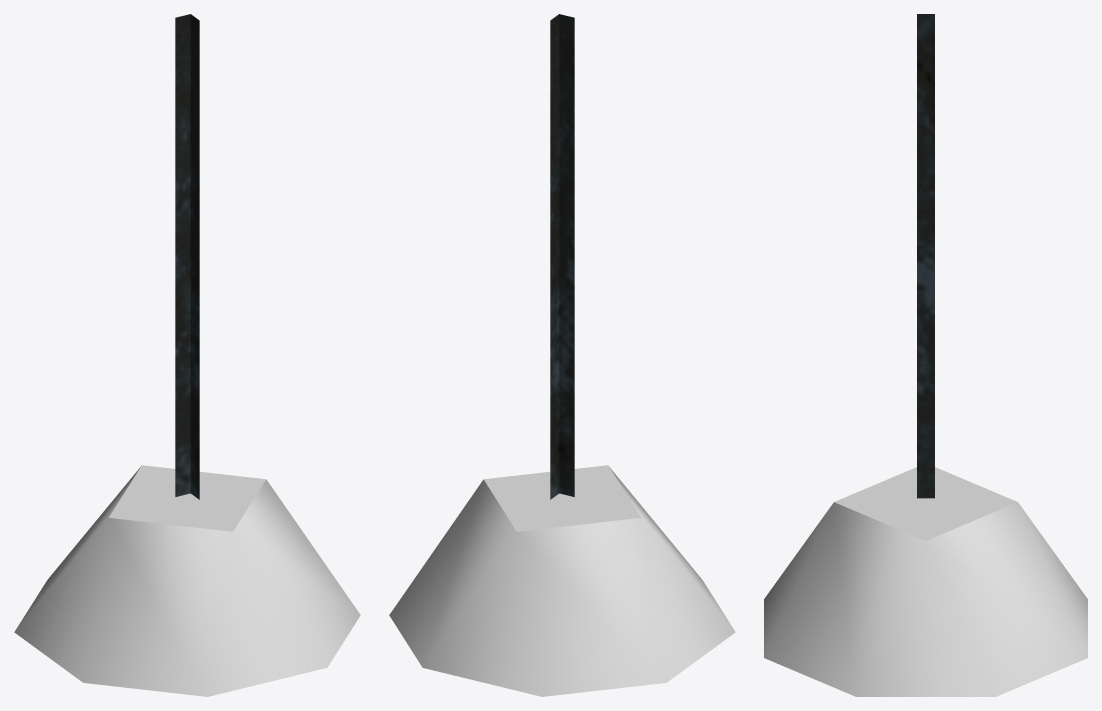
Rendered from lamp_hanging.fbx.
3 views of the same model, side by side, from view 1: azimuth 30°, elevation 25°; view 2: azimuth 150°, elevation 25°; view 3: azimuth 270°, elevation 25° (orthographic).
Visible parts, largest first — view 1: lamp_hanging; view 2: lamp_hanging; view 3: lamp_hanging.
Part boxes in pixels (x1=…): lamp_hanging: x1=14, y1=14, x2=360, y2=696; lamp_hanging: x1=389, y1=14, x2=735, y2=696; lamp_hanging: x1=764, y1=14, x2=1087, y2=696.
Bounding box in the file's own units: 218 × 453 × 218.
